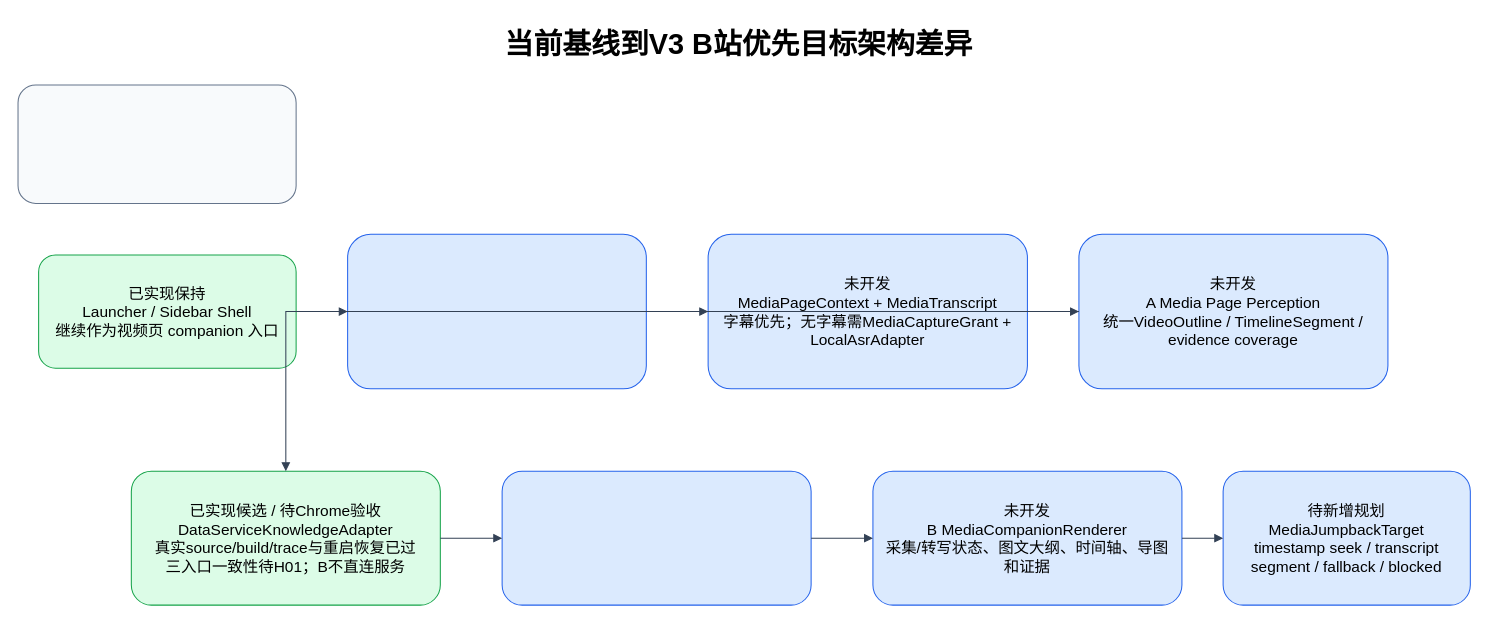
Some shapes in this 1488 by 623 pixel diagram are drawn without their labels. The shapes that lost their labels are listed below. From the top down, each one's centre as x and y in pixels, then its label:
[156,143]: 绿色=已实现保持 蓝色=待新增规划 黄色=保持边界需治理 红色=No-Go
[496,311]: 未开发 BilibiliMediaCollector bvid / cid / 分P / 播放器时间 / 页内字幕可用性
[656,537]: 未开发 C MediaMindmapProjection 只从VideoOutline派生，复用同一segment/evidence ID
